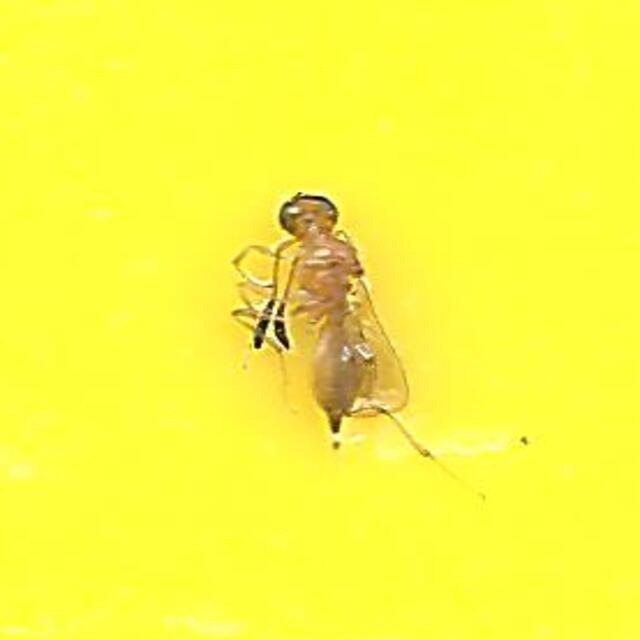Hymenoptera: (231, 190, 409, 450)
